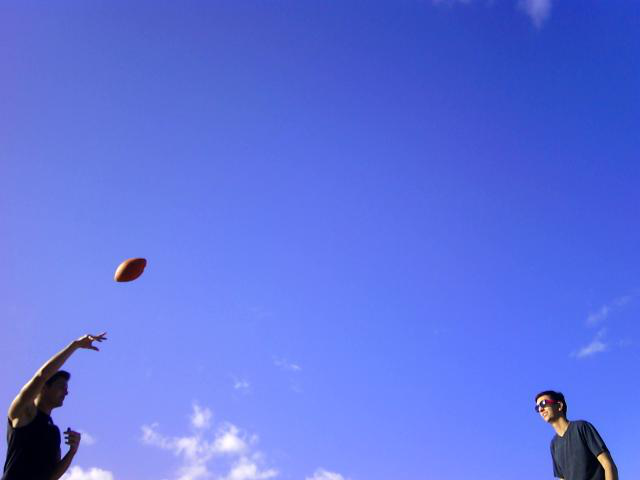football: (111, 255, 150, 290)
